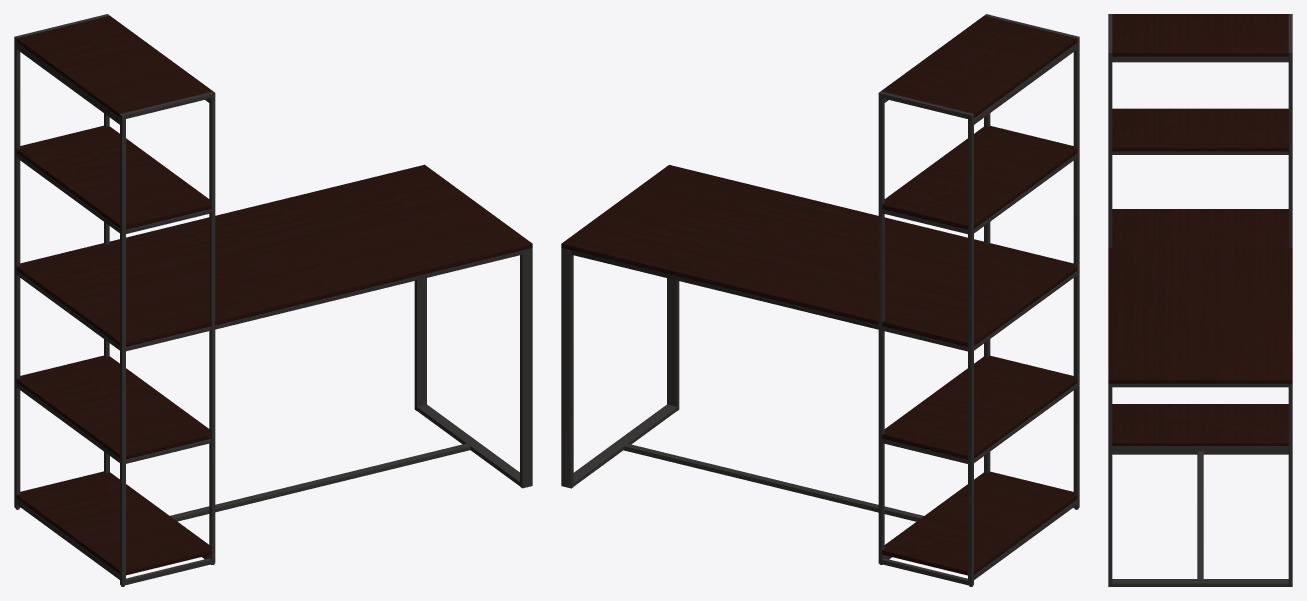
3 renders of one model, left to right at view 1: azimuth 30°, elevation 25°; view 2: azimuth 150°, elevation 25°; view 3: azimuth 270°, elevation 25°, orthographic. The views are drawn at different scales.
Parts seen in each view (by area): view 1: C-skp9267; view 2: C-skp9267; view 3: C-skp9267.
Part boxes in pixels (box(x1,y1,x2,y2)): C-skp9267: box(14, 14, 532, 586); C-skp9267: box(561, 14, 1079, 586); C-skp9267: box(1108, 14, 1292, 586).
Bounding box in the file's own units: 1.35 × 1.48 × 0.6141.
3 materials, 1 textured.
